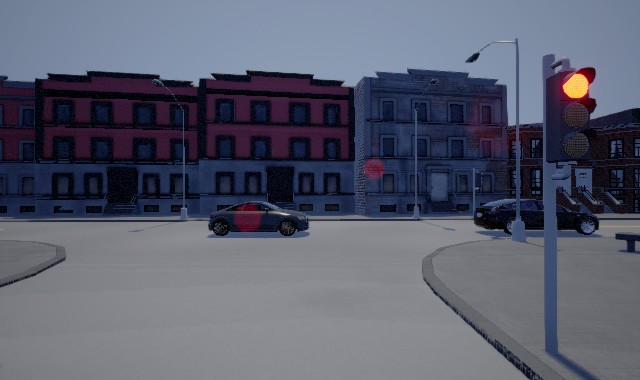traffic_light: (546, 57, 597, 180)
vehicle: (473, 195, 602, 235), (208, 201, 310, 236)
